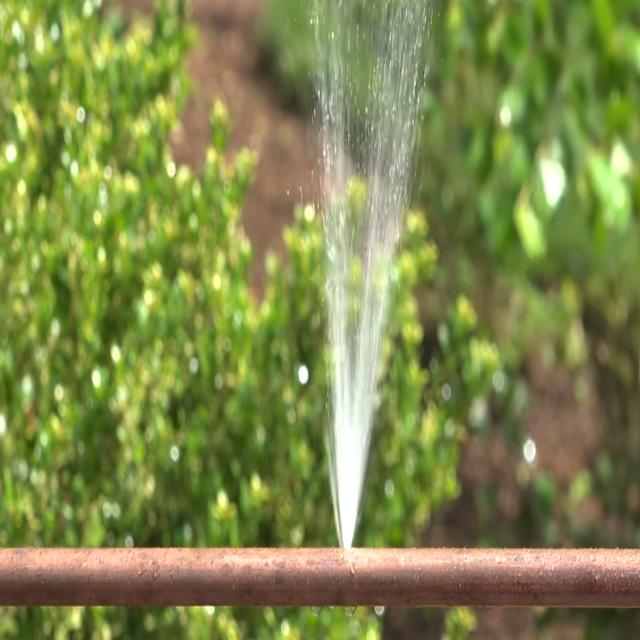leak: (315, 0, 430, 547)
